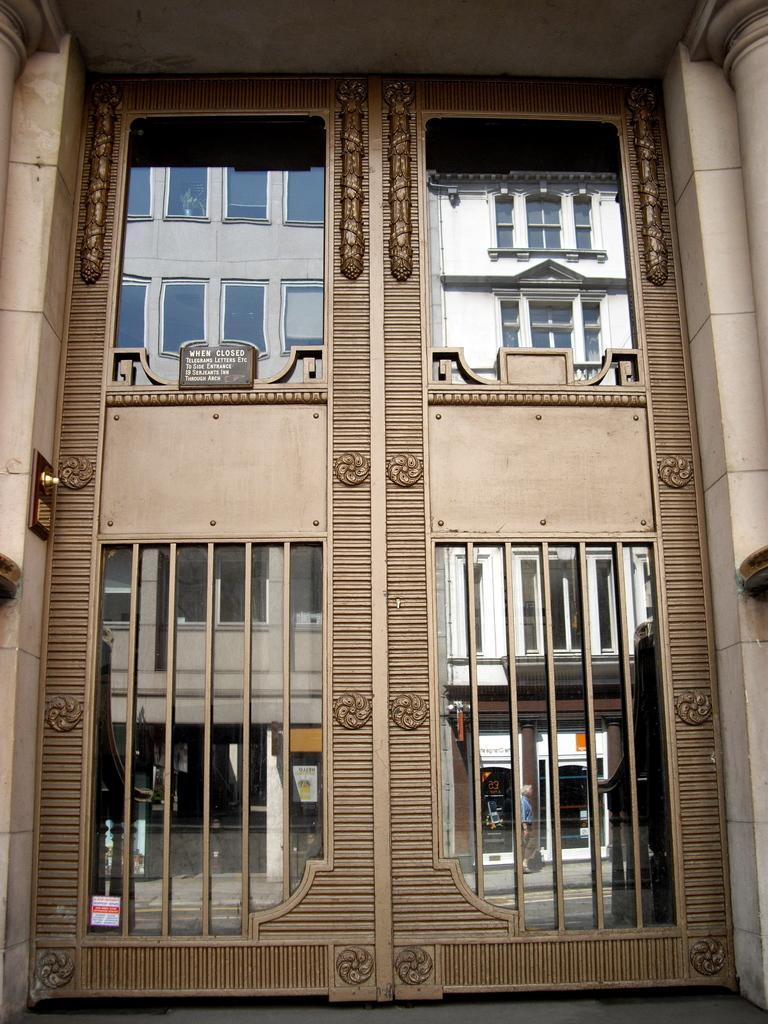door: (384, 95, 682, 997), (88, 125, 360, 984)
